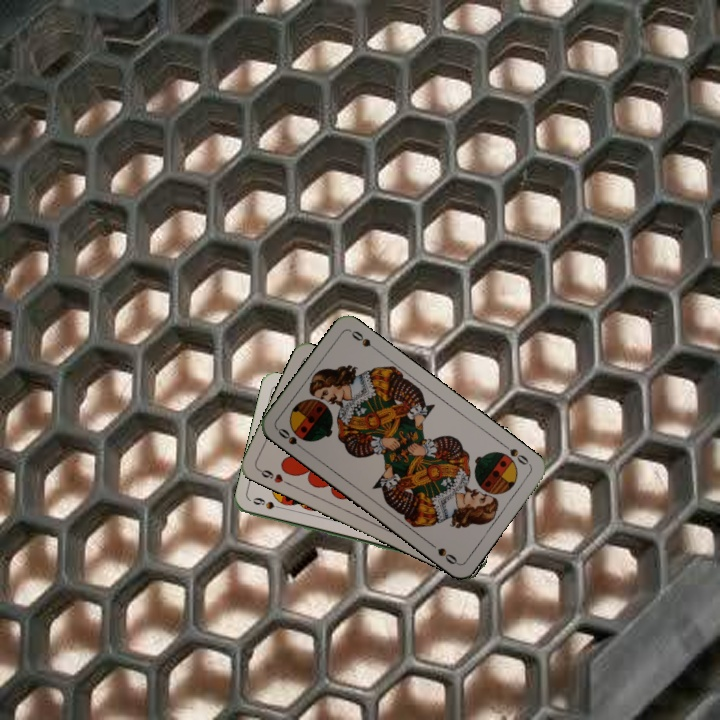H9: (254, 465, 292, 488)
S9: (249, 494, 288, 513)
SO: (273, 424, 308, 454), (498, 439, 533, 468)
